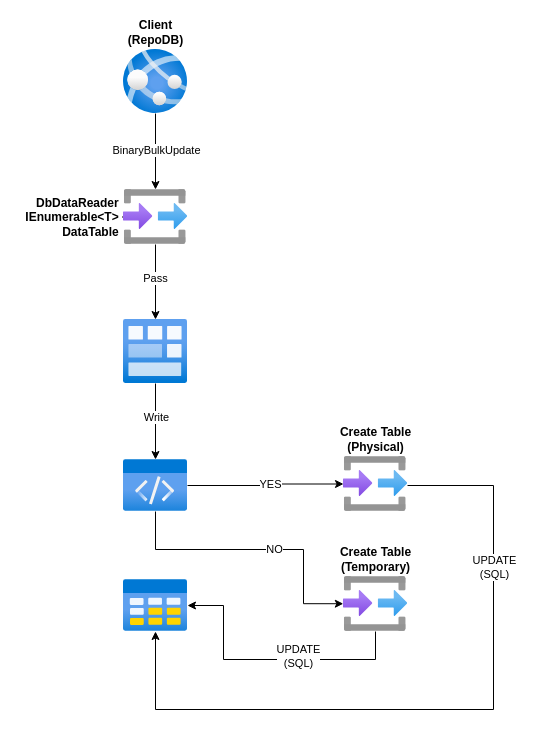
Some shapes in this 533 by 735 pixel diagram are drawn without their labels. Here are the shapes that lost their labels. From the top down, the centre of each, then its label:
the point at 155,351: BinaryImport
the point at 155,485: PseudoTableType Physical?
